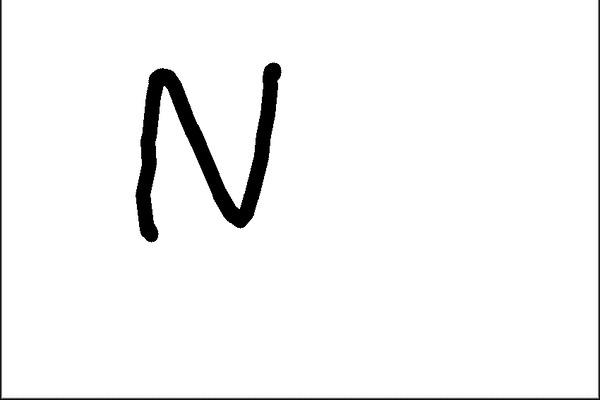N: (131, 55, 285, 244)
